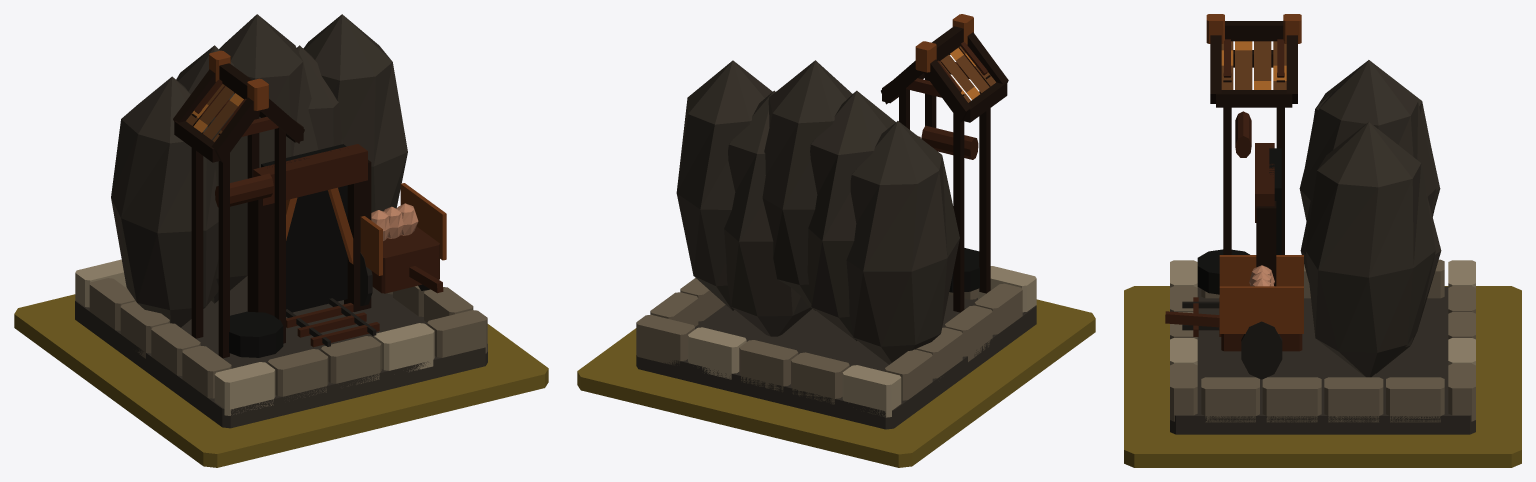
Rendered from deephole_t3.glb.
3 renders of one model, left to right at view 1: azimuth 30°, elevation 25°; view 2: azimuth 150°, elevation 25°; view 3: azimuth 270°, elevation 25°, orthographic. The views are drawn at different scales.
Parts seen in each view (by area): view 1: MMR | deephole | T03 Architecture.001, MMR | deephole | Tier 03 Ground.001; view 2: MMR | deephole | T03 Architecture.001, MMR | deephole | Tier 03 Ground.001; view 3: MMR | deephole | T03 Architecture.001, MMR | deephole | Tier 03 Ground.001.
Boxes of the visible parts, bbox=[...] form: MMR | deephole | T03 Architecture.001: bbox=[75, 14, 487, 428]; MMR | deephole | Tier 03 Ground.001: bbox=[14, 294, 548, 467]; MMR | deephole | T03 Architecture.001: bbox=[636, 14, 1036, 429]; MMR | deephole | Tier 03 Ground.001: bbox=[577, 299, 1095, 467]; MMR | deephole | T03 Architecture.001: bbox=[1165, 14, 1475, 434]; MMR | deephole | Tier 03 Ground.001: bbox=[1124, 286, 1521, 467].
Bounding box in the file's own units: 1.3 × 1.19 × 1.3.
1 material, 1 textured.
